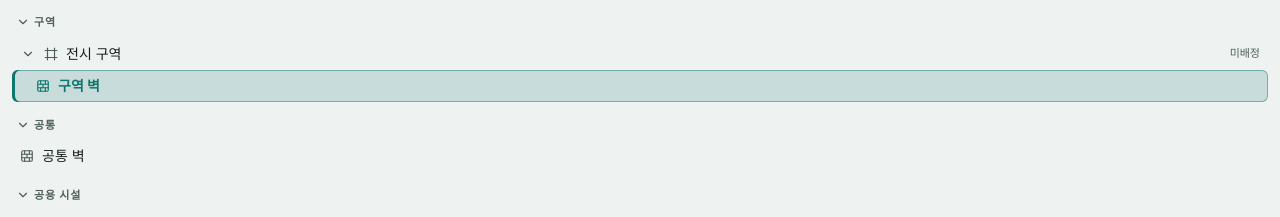
Test case: LayersPanel common reorder › makes the current selection prominent and collapses common and zone groups
Click the button named "전시 구역 접기" at (28, 54), box [16,42,40,66]
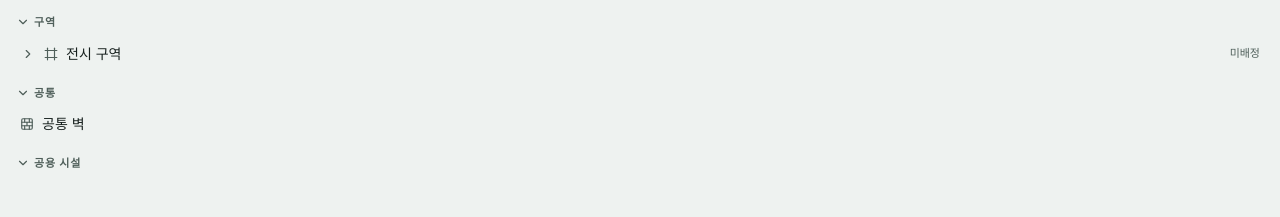
Click the button named "전시 구역 접기" at (28, 54), box [16,42,40,66]
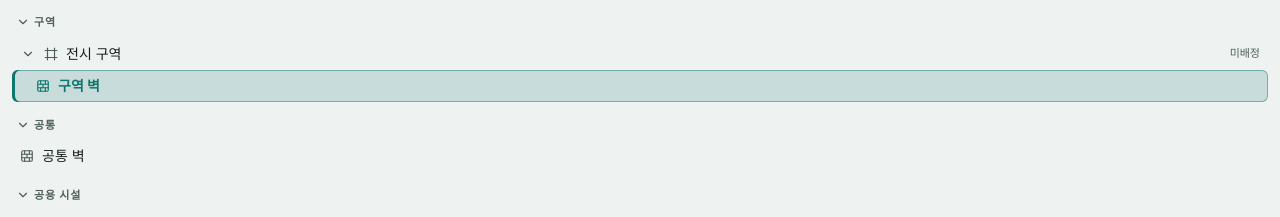
Expected: the button with aria-label "구역 벽 선택" is shown, [12,70,1268,102]
Click the button "공통" at (23, 125), box [12,114,1268,136]
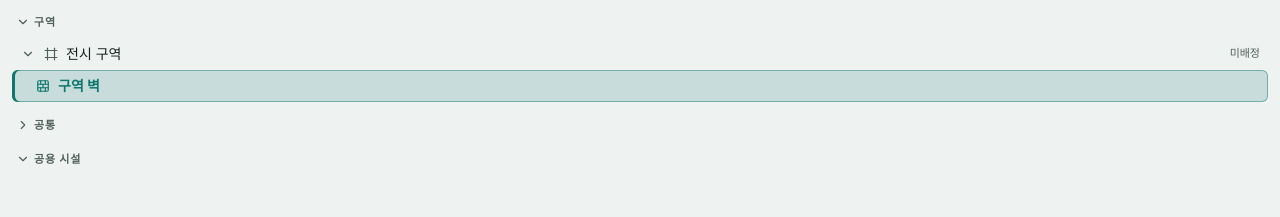
Click the button "공통" at (23, 125), box [12,114,1268,136]
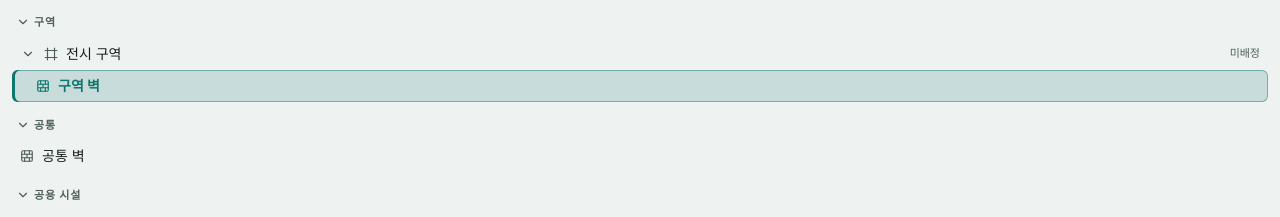
Expected: the button with aria-label "공통 벽 선택" is shown, [12,140,1268,172]
